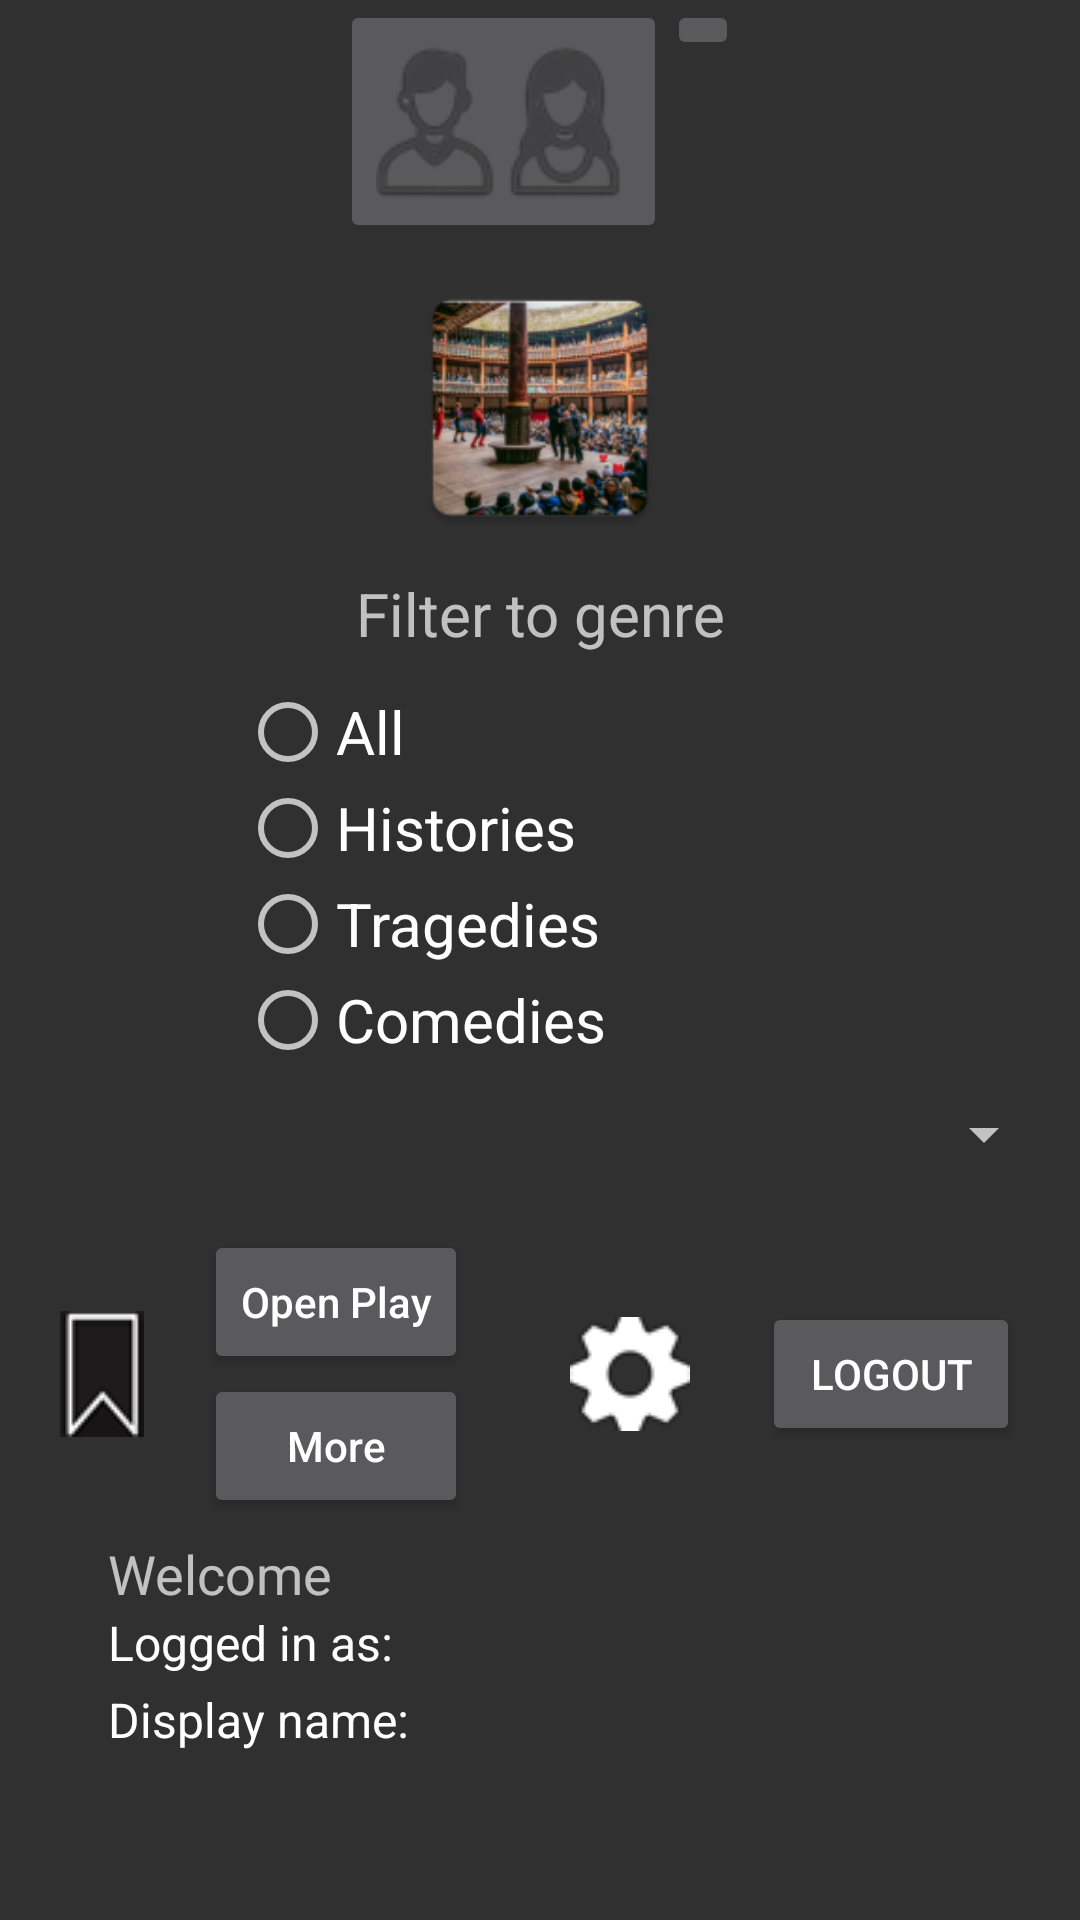

Named icons in this screenshot (1080*1920) and their centers, [x,y]:
Bookmarks: [103,1374]
home on stage: [540,407]
settings cog on: [630,1374]
